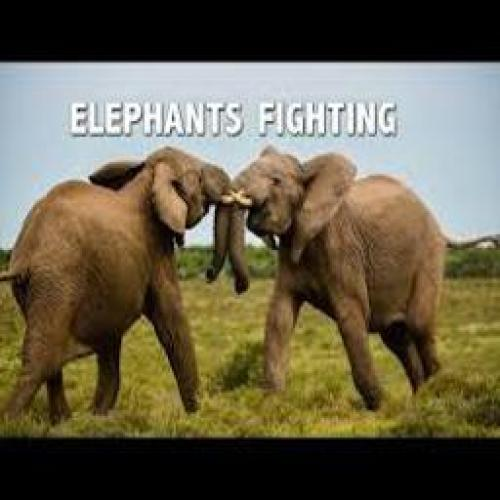african_elephant-endangered: (223, 134, 461, 414), (7, 147, 225, 420)
